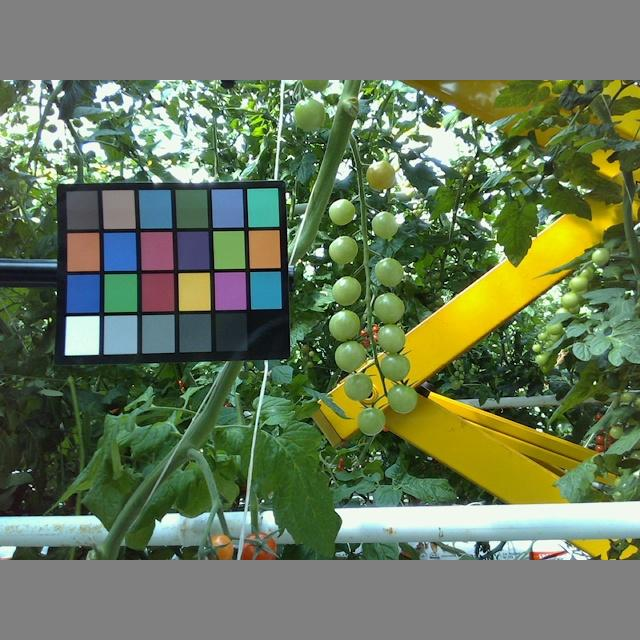green: (293, 98, 326, 133), (334, 340, 368, 373), (373, 289, 405, 323), (327, 309, 363, 339), (366, 159, 397, 192), (384, 383, 419, 412), (355, 406, 387, 437), (328, 233, 359, 264), (373, 256, 402, 288), (377, 353, 410, 381), (345, 372, 375, 402), (377, 323, 405, 354), (370, 210, 399, 239), (332, 277, 360, 306), (330, 197, 356, 226)
pink: (237, 533, 277, 560), (199, 534, 236, 558)
